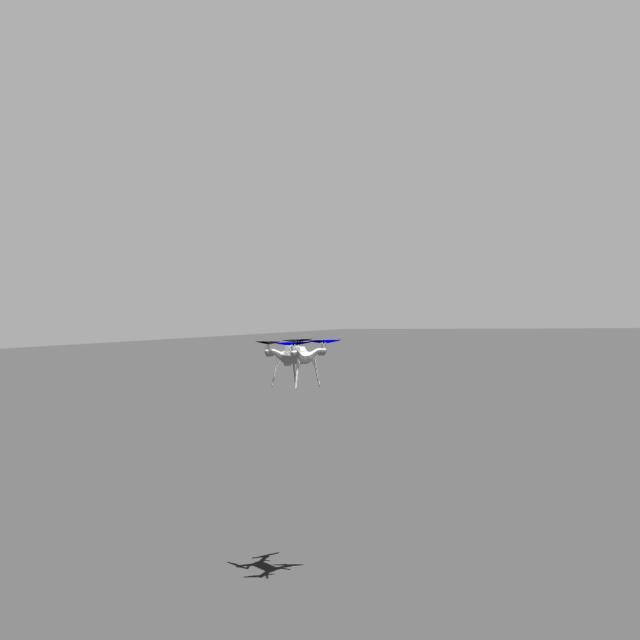Drone: (256, 324, 332, 390)
